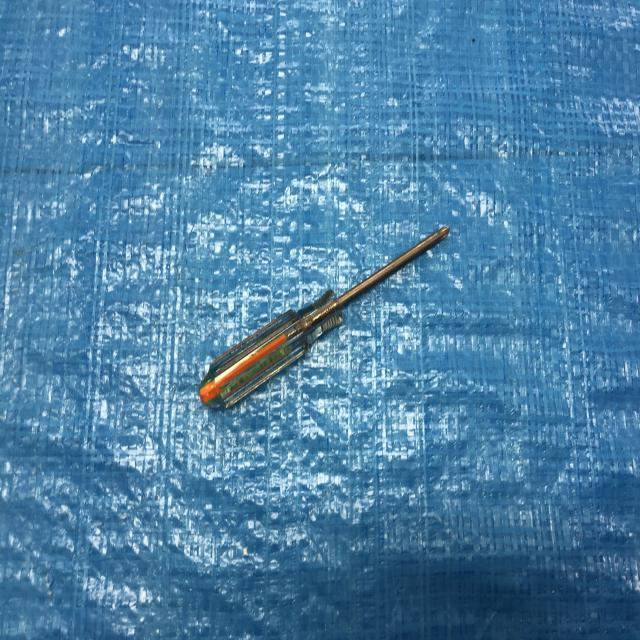screwdriver: (188, 218, 454, 420)
